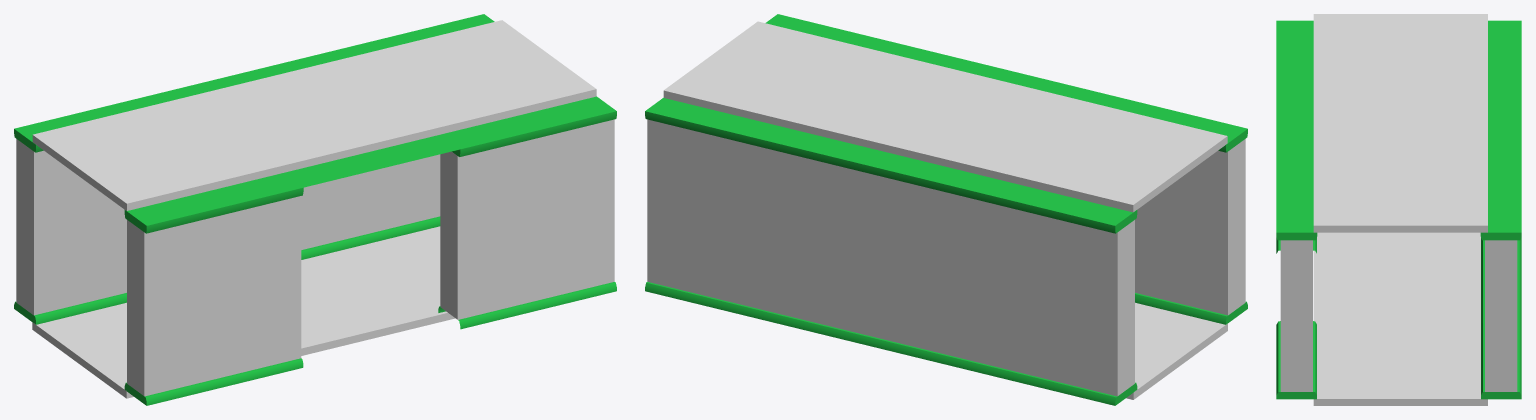
Rendered from Basic Hallway 01B.fbx.
The picture shows the model from 3 angles, left to right: view 1: azimuth 30°, elevation 25°; view 2: azimuth 150°, elevation 25°; view 3: azimuth 270°, elevation 25°; orthographic projection. The views are drawn at different scales.
Visible parts, largest first — view 1: Plane_001; view 2: Plane_001; view 3: Plane_001.
Boxes of the visible parts, x1,y1,x2,y2 form: Plane_001: (14, 14, 616, 405); Plane_001: (645, 14, 1247, 405); Plane_001: (1276, 14, 1521, 405).
Size of the model in its own units: 1258 by 498 by 615.
